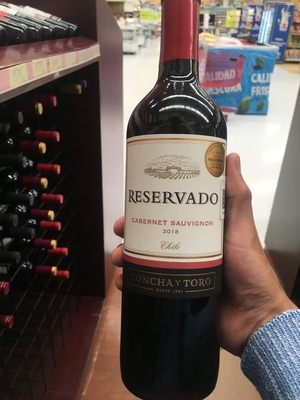reservado cabernet sauvignon: (114, 26, 248, 373)
